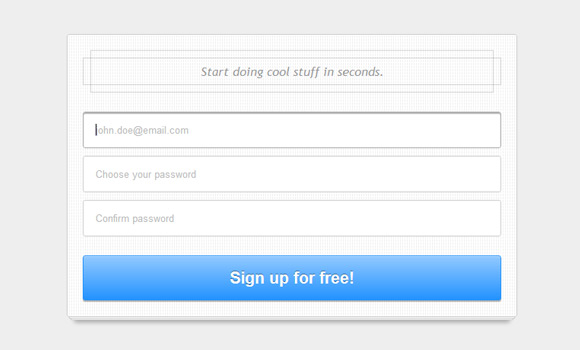button: (81, 252, 504, 303)
field: (80, 110, 504, 150), (81, 199, 504, 239), (81, 155, 504, 193)
